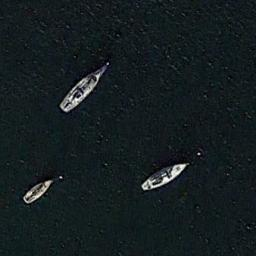boat: (59, 61, 110, 113), (140, 162, 190, 190), (22, 178, 55, 204)
